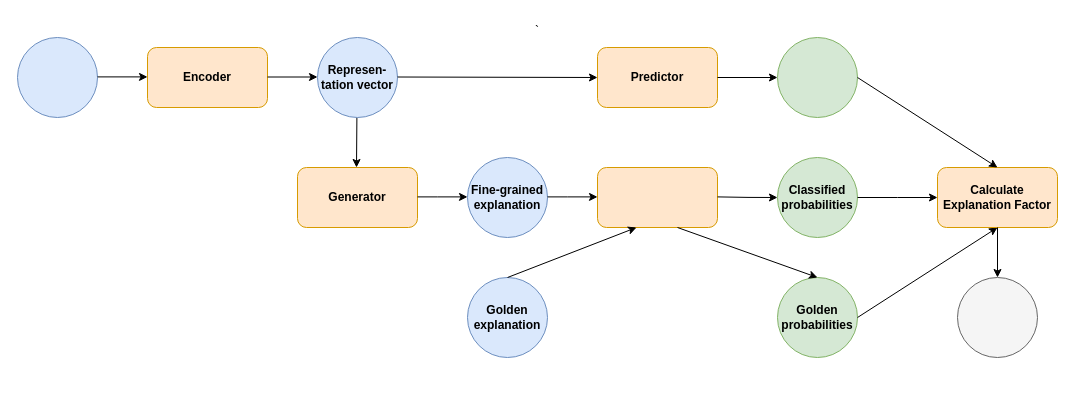
This 1075x414 diagram has some shape labels left out. Each missing label, with the centre of its shape:
"Classifier" belongs at (657,197).
"EF(S)" belongs at (997,317).
"Input sequence" belongs at (57,77).
"Predicted probabilities" belongs at (817,77).
